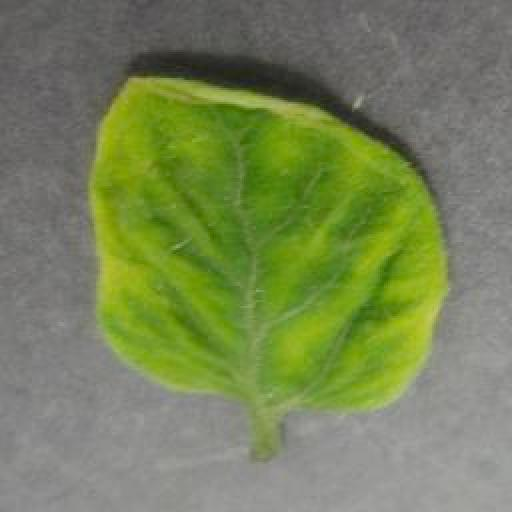disease_tomato: (94, 74, 454, 412)
